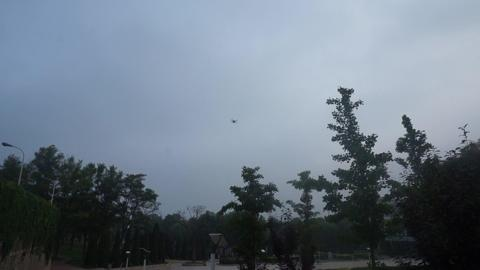UAV: (231, 119, 238, 124)
